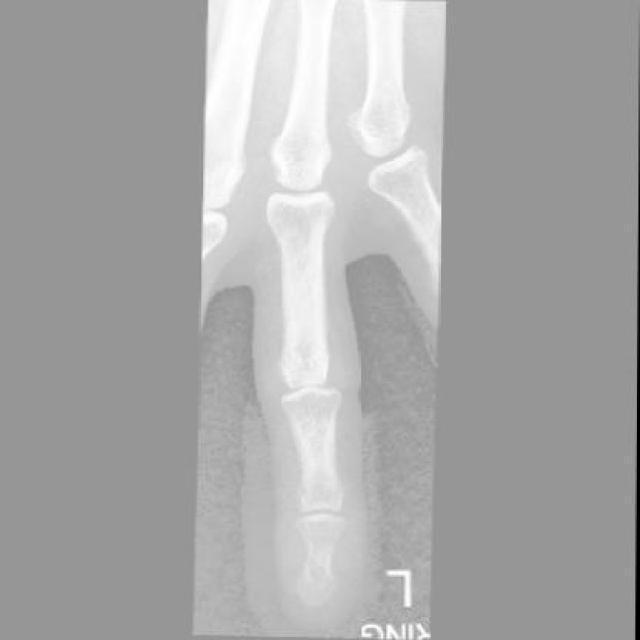Fracture: (287, 554, 341, 617)
